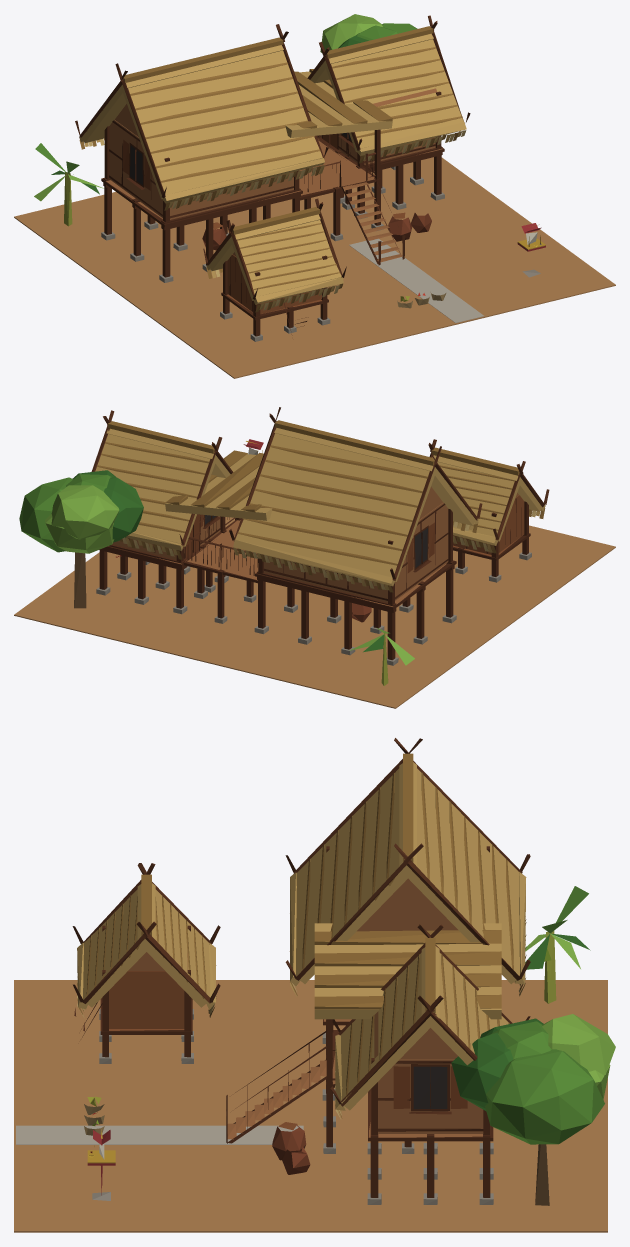
Rendered from home_3.glb.
3 views of the same model, one above another, from view 1: azimuth 30°, elevation 25°; view 2: azimuth 150°, elevation 25°; view 3: azimuth 270°, elevation 25° (orthographic). The views are drawn at different scales.
Parts seen in each view (by area): view 1: body; view 2: body, windows; view 3: body, windows.
Part boxes in pixels (x1,y1,x2,y2): body: (14, 14, 615, 378); body: (14, 407, 615, 708); windows: (205, 515, 427, 567); body: (14, 738, 615, 1232); windows: (413, 1066, 447, 1109).
Bounding box in the file's own units: 16.4 × 7.88 × 16.11.
